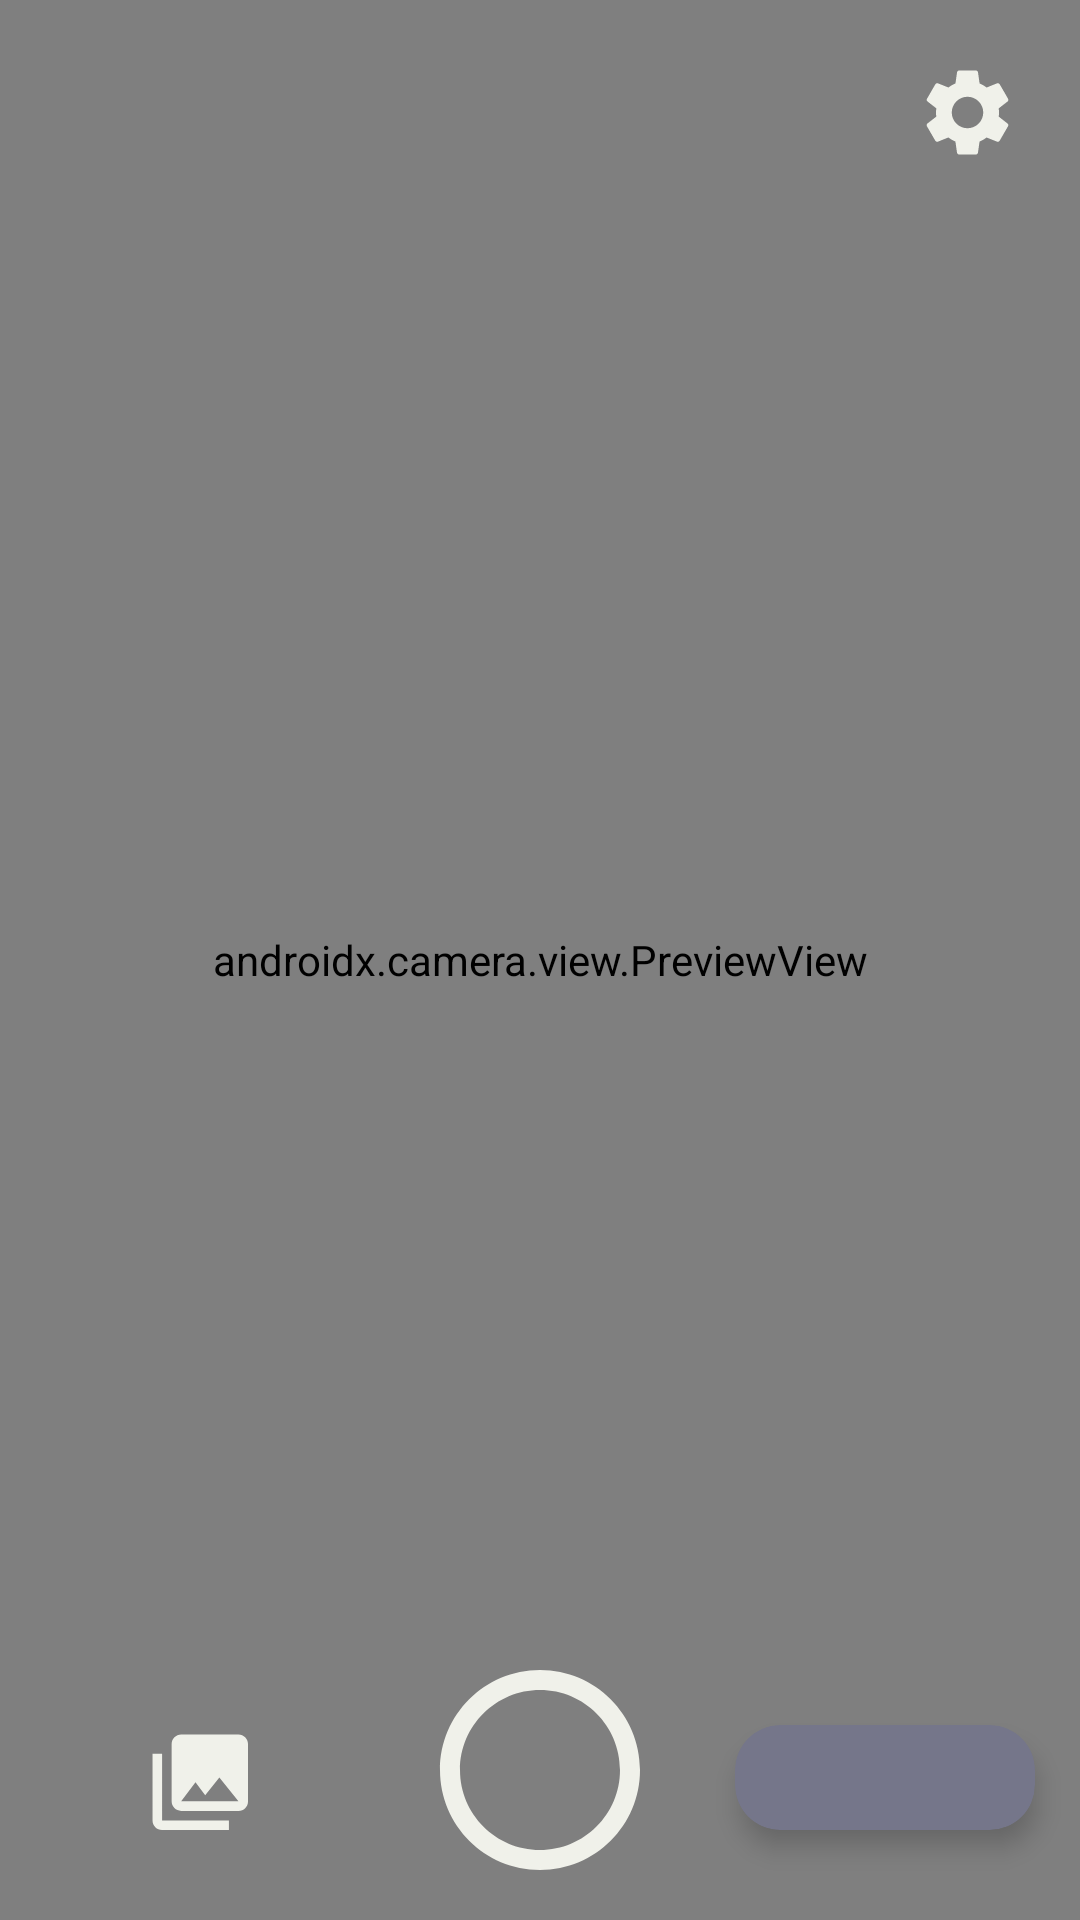

Icon click points for this 1080x1920 phone screenshot, format (x,y):
circle: (540,1770)
collections: (200,1782)
settings: (967,112)
